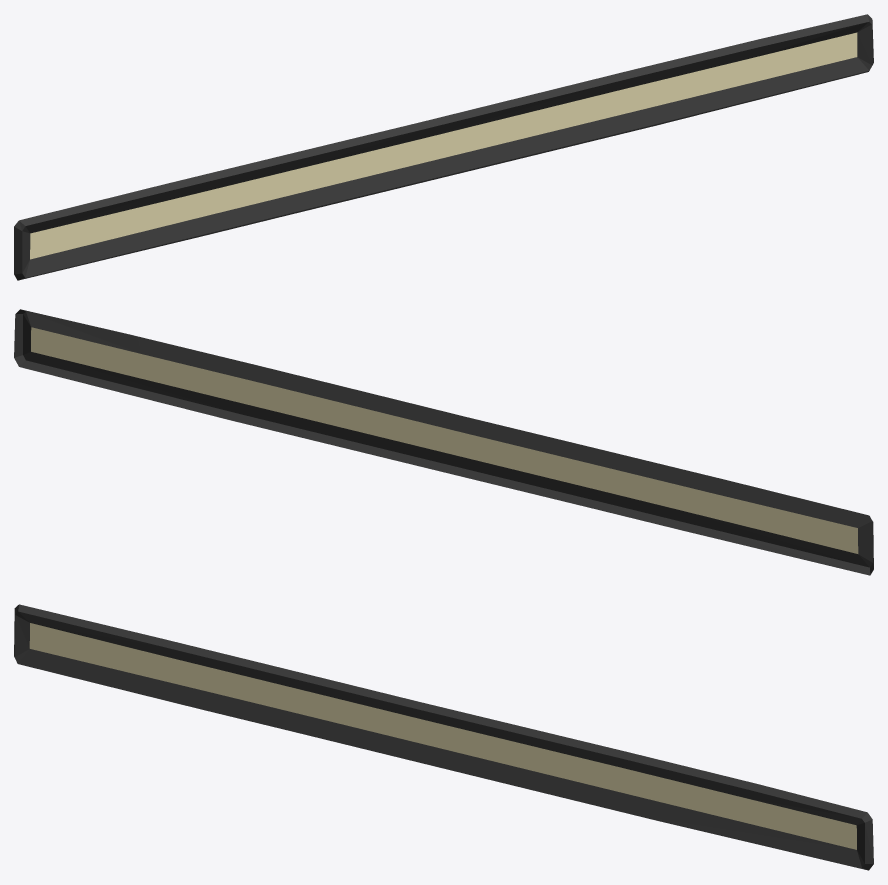
File: ui_favorProgressBar_bg.glb
3 views of the same model, one above another, from view 1: azimuth 30°, elevation 25°; view 2: azimuth 150°, elevation 25°; view 3: azimuth 330°, elevation 25° (orthographic).
Visible parts, largest first — view 1: Cube; view 2: Cube; view 3: Cube.
Boxes of the visible parts, x1,y1,x2,y2 form: Cube: (14,14,873,280); Cube: (14,309,873,575); Cube: (14,604,873,870).
Bounding box in the file's own units: 2.03 × 0.139 × 0.0166.
